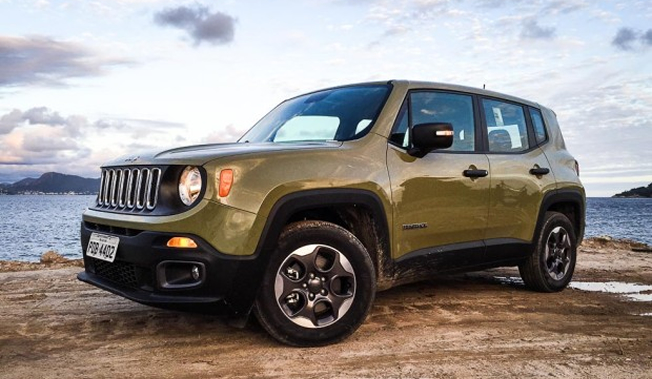Carro: (65, 74, 586, 346)
